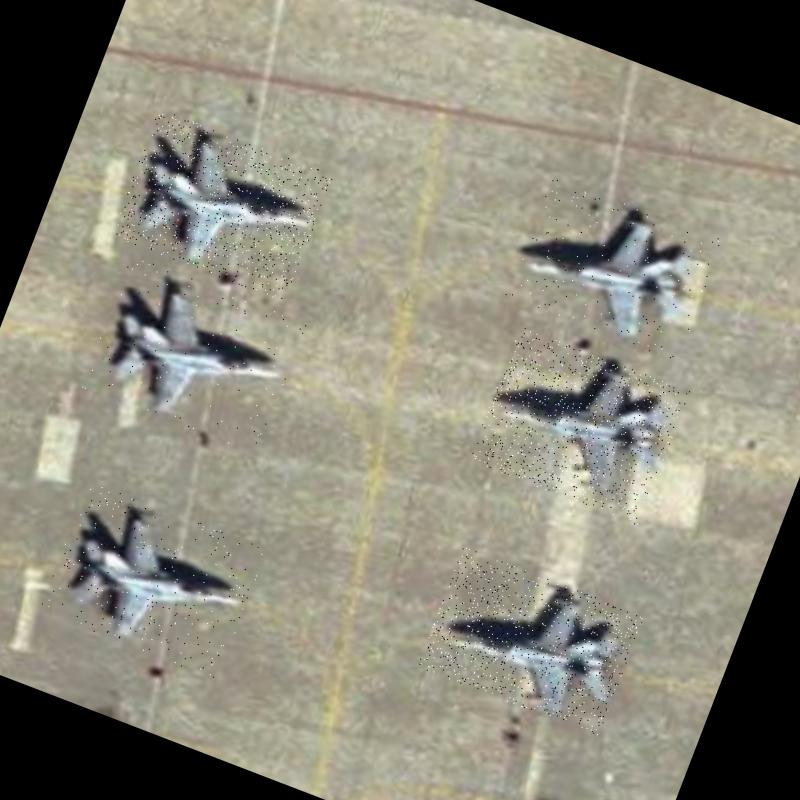A16: (79, 254, 308, 456), (38, 480, 267, 680), (468, 326, 690, 526), (416, 546, 644, 736), (110, 108, 333, 302), (504, 174, 724, 364)
